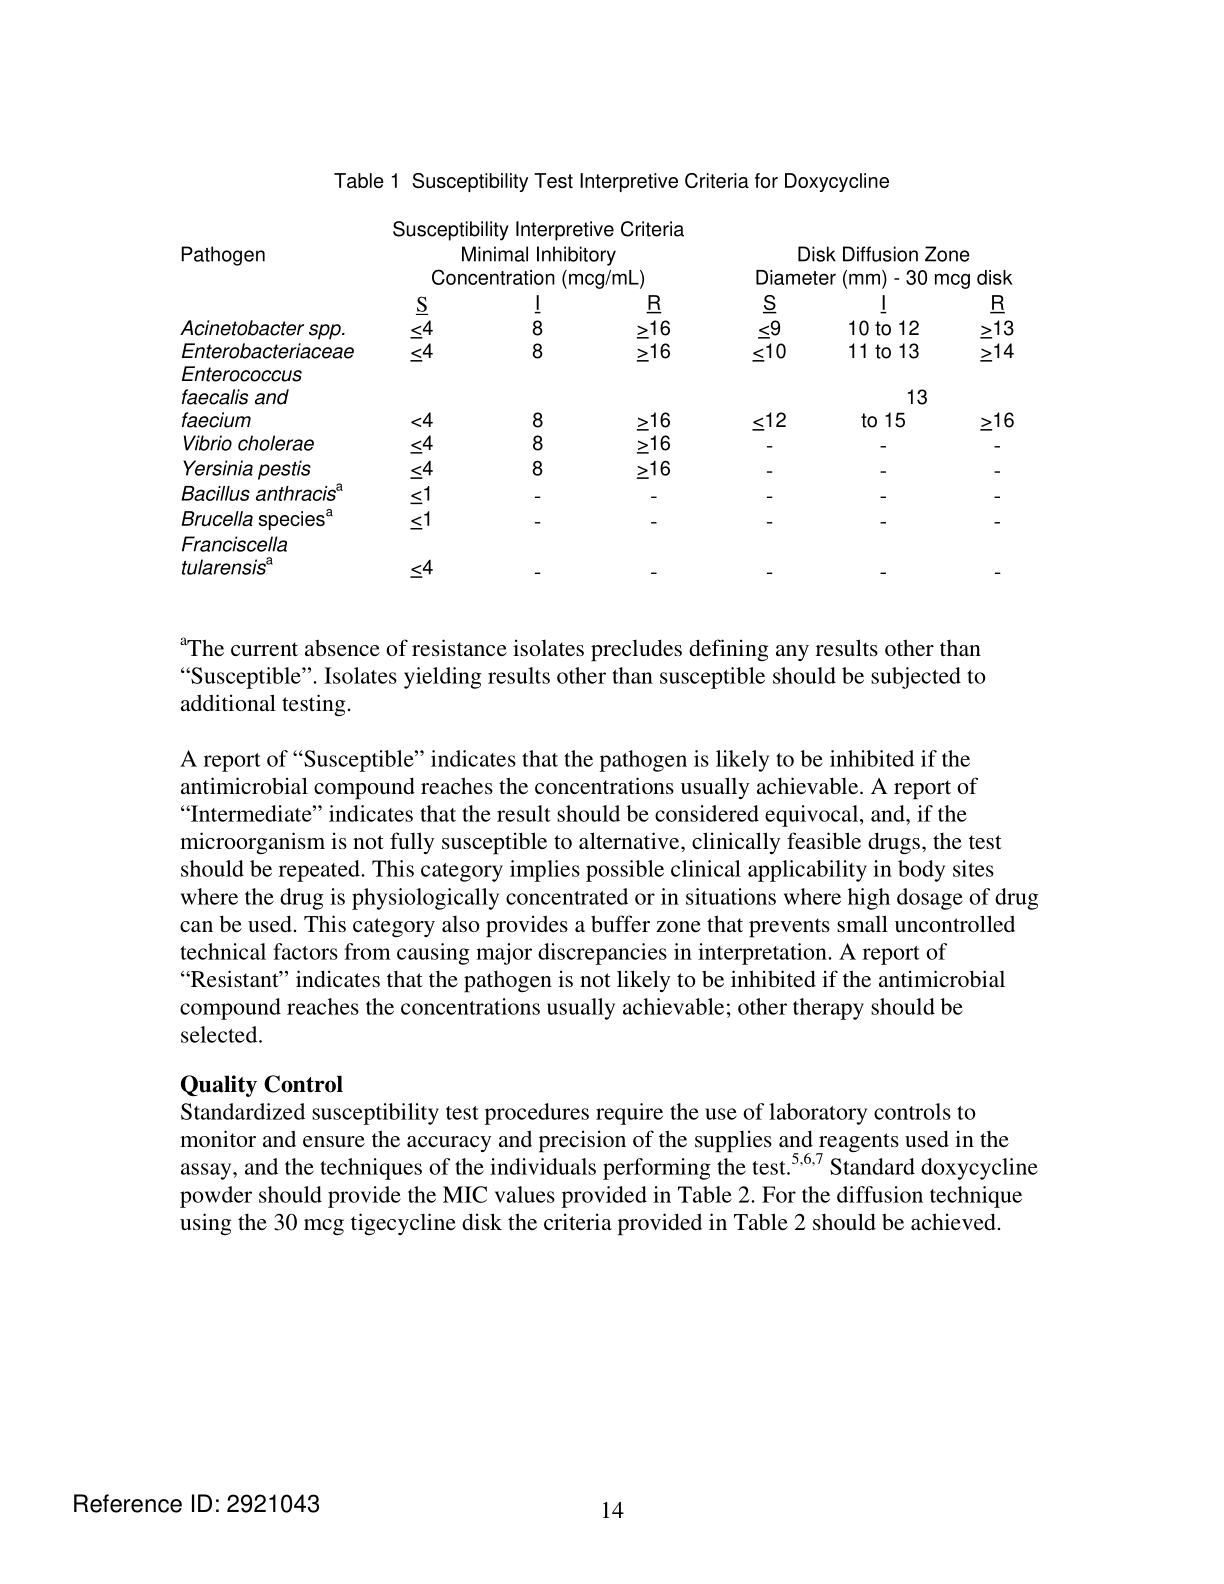nolines: (177, 221, 1021, 585)
